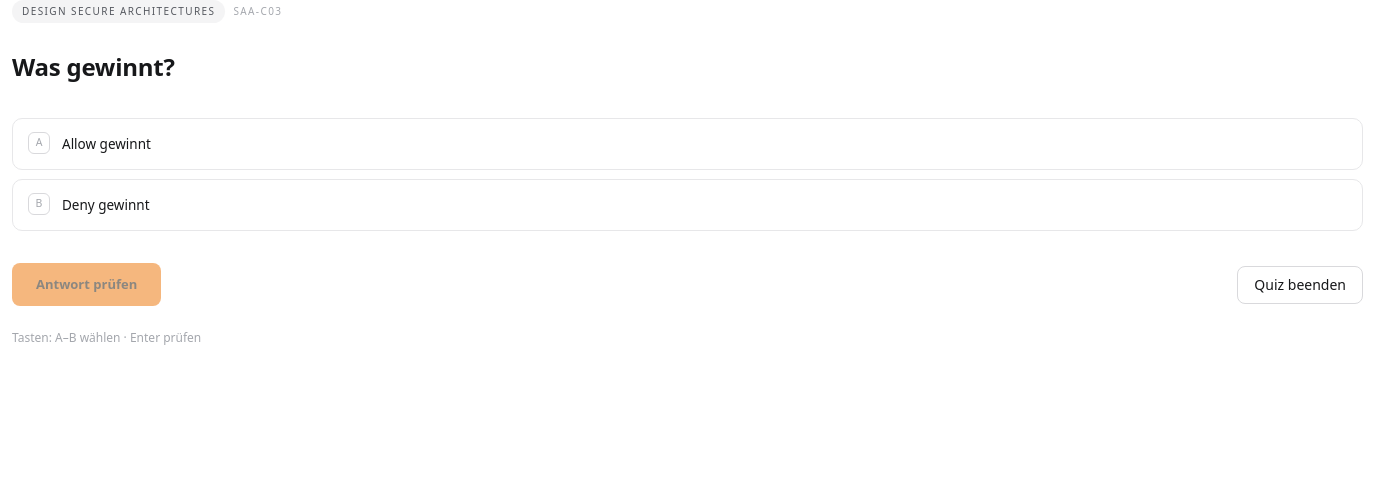
Test: QuestionCard structured explanation › falls back to the flat explanation when structured is null
The width and height of the screenshot is (1378, 484).
Step 1. Click the button "A Allow gewinnt" → click(106, 144), box [12,118,1363,170]
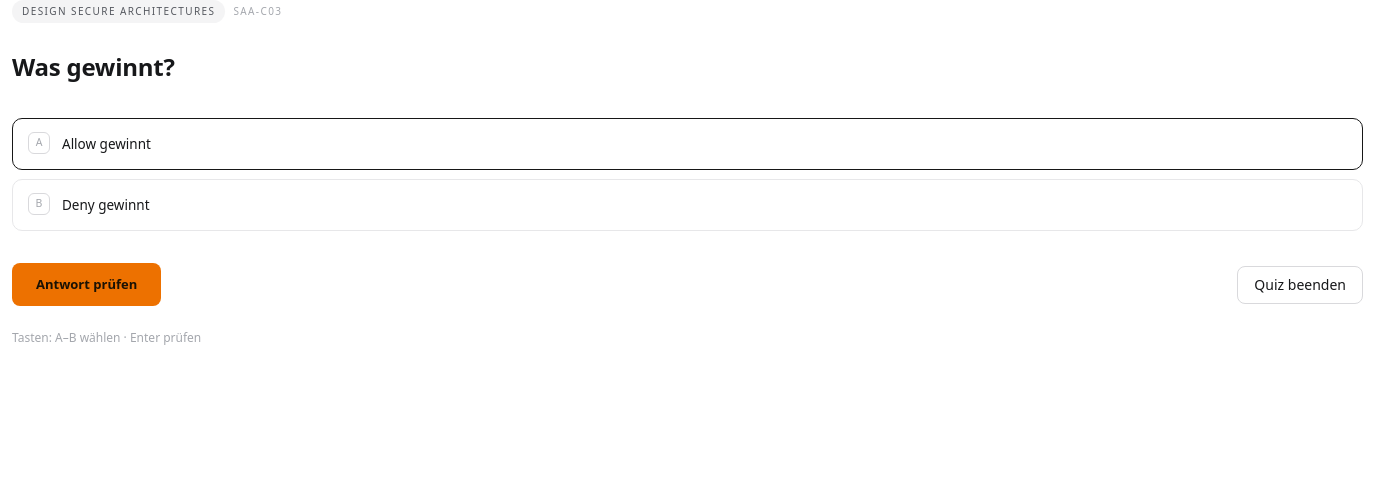
Step 2. Click the button "Antwort prüfen" → click(87, 285), box [12,263,161,306]
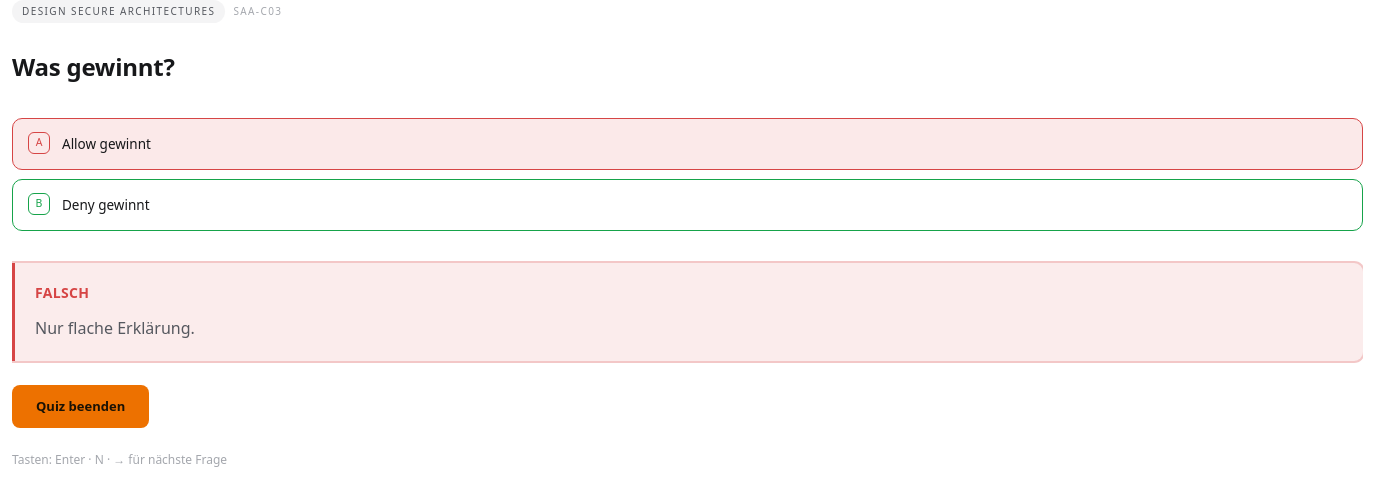
Now the text "Falsch" is shown, box [35,283,89,302]
Now the text "Nur flache Erklärung." is shown, box [35,317,195,339]
